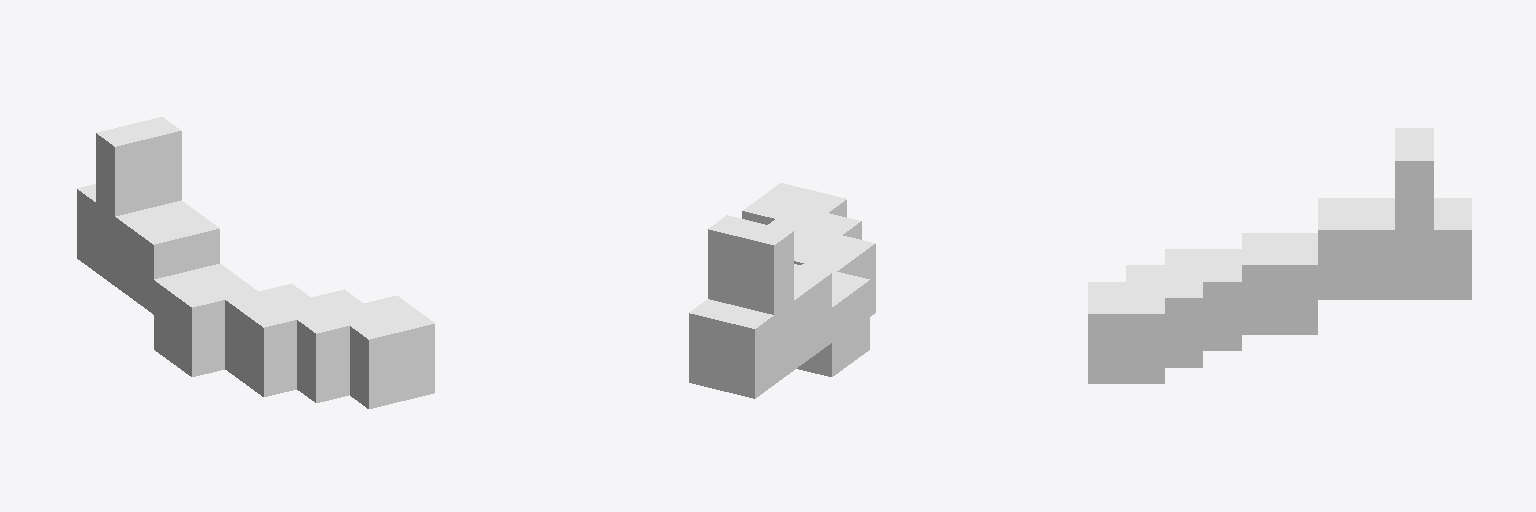
The model's file is Rig.obj.
3 views of the same model, side by side, from view 1: azimuth 30°, elevation 25°; view 2: azimuth 150°, elevation 25°; view 3: azimuth 270°, elevation 25° (orthographic).
Visible parts, largest first — view 1: object 1; view 2: object 1; view 3: object 1.
Part boxes in pixels (bbox=[...]): object 1: bbox=[77, 117, 434, 408]; object 1: bbox=[689, 183, 875, 398]; object 1: bbox=[1088, 128, 1471, 383].
Size of the model in its own units: 0.5 by 0.5 by 1.